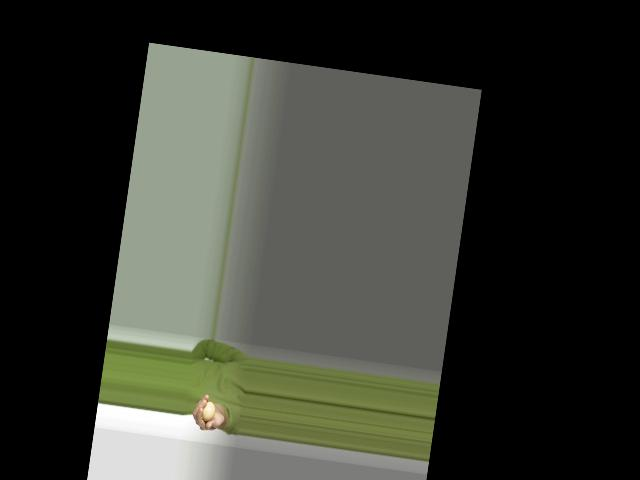egg: (201, 400, 216, 422)
